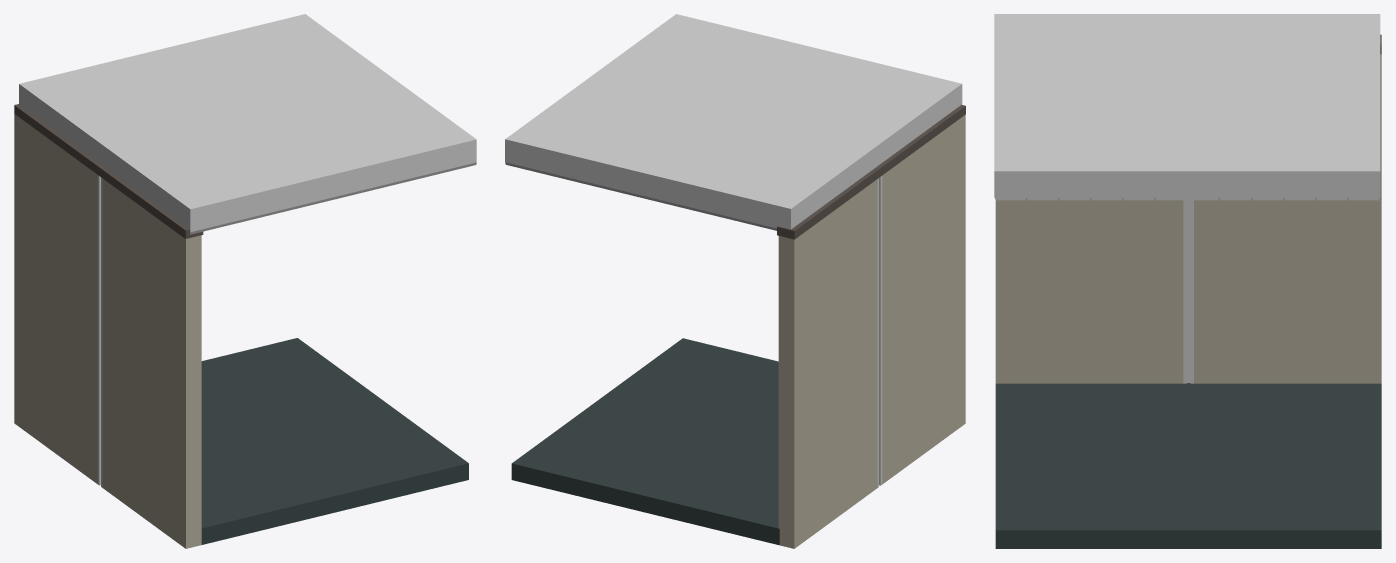
File: air_corridor.fbx
3 views of the same model, side by side, from view 1: azimuth 30°, elevation 25°; view 2: azimuth 150°, elevation 25°; view 3: azimuth 270°, elevation 25° (orthographic). The views are drawn at different scales.
Visible parts, largest first — view 1: ceiling, corridor_section, floor, pCube53; view 2: ceiling, corridor_section, floor, pCube53; view 3: ceiling, corridor_section, floor.
Boxes of the visible parts, bbox=[...] form: ceiling: bbox=[19, 14, 476, 234]; corridor_section: bbox=[14, 114, 201, 548]; floor: bbox=[201, 338, 468, 544]; pCube53: bbox=[14, 104, 203, 238]; ceiling: bbox=[505, 14, 962, 230]; corridor_section: bbox=[778, 115, 965, 548]; floor: bbox=[511, 338, 779, 545]; pCube53: bbox=[777, 104, 965, 239]; ceiling: bbox=[994, 14, 1380, 200]; corridor_section: bbox=[995, 54, 1381, 383]; floor: bbox=[995, 383, 1381, 548].
Bounding box in the file's own units: 3.98 × 4.44 × 4.08.
